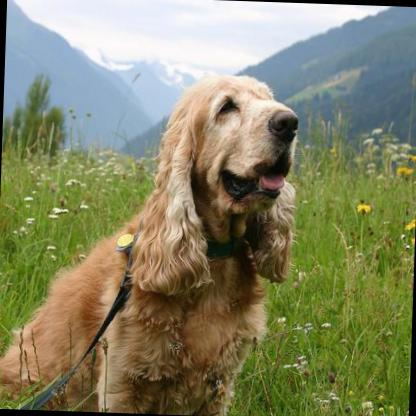cocker_spaniel: (0, 63, 343, 416)
